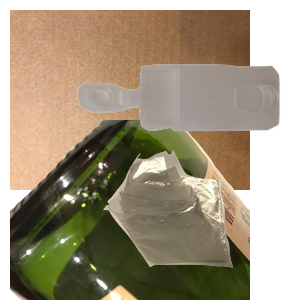cardboard: (10, 10, 250, 190)
glass: (10, 120, 250, 300)
plastic: (75, 62, 300, 186)
trash: (101, 148, 300, 300)
